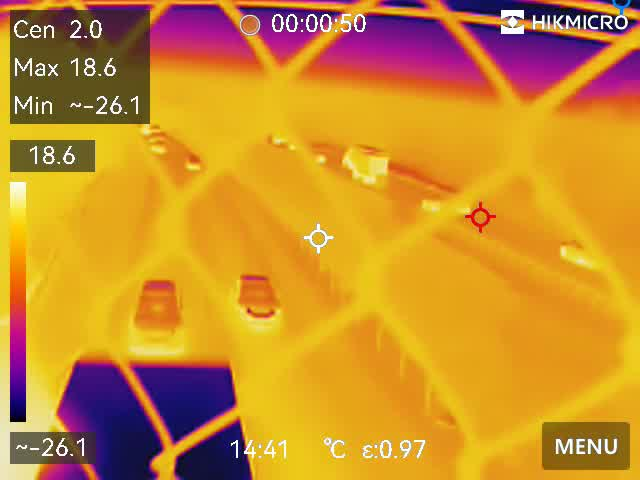heavyTruck: (340, 143, 397, 179)
vehicle: (132, 275, 187, 360), (232, 267, 282, 330), (555, 234, 608, 268), (149, 136, 170, 160), (184, 153, 200, 172)
